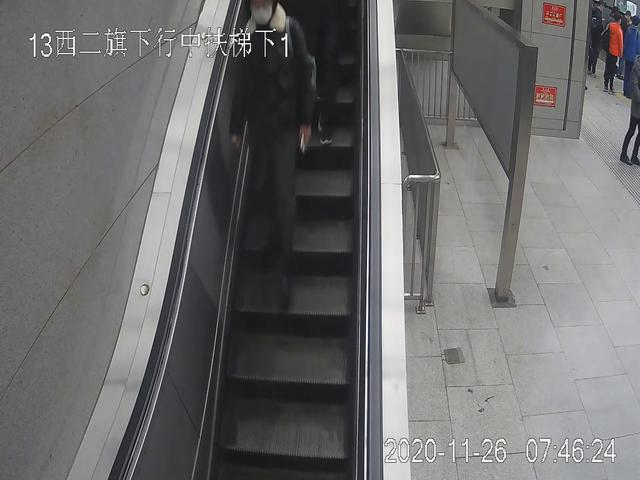person: (228, 1, 312, 317), (601, 14, 625, 93)
